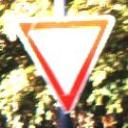preferencia: (10, 10, 118, 118)
